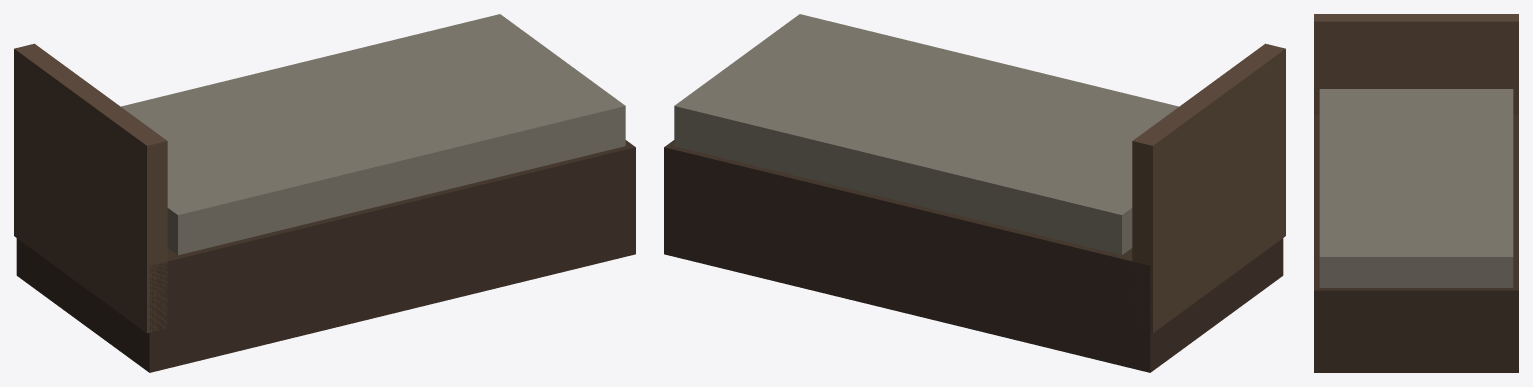
File: interior_bed.glb
3 renders of one model, left to right at view 1: azimuth 30°, elevation 25°; view 2: azimuth 150°, elevation 25°; view 3: azimuth 270°, elevation 25°, orthographic. The views are drawn at different scales.
Visible parts, largest first — view 1: interior_bed; view 2: interior_bed; view 3: interior_bed.
Part boxes in pixels (bbox=[...]): interior_bed: bbox=[14, 14, 635, 372]; interior_bed: bbox=[664, 14, 1285, 372]; interior_bed: bbox=[1314, 14, 1518, 372].
Size of the model in its own units: 1.91 by 0.85 by 0.9.
